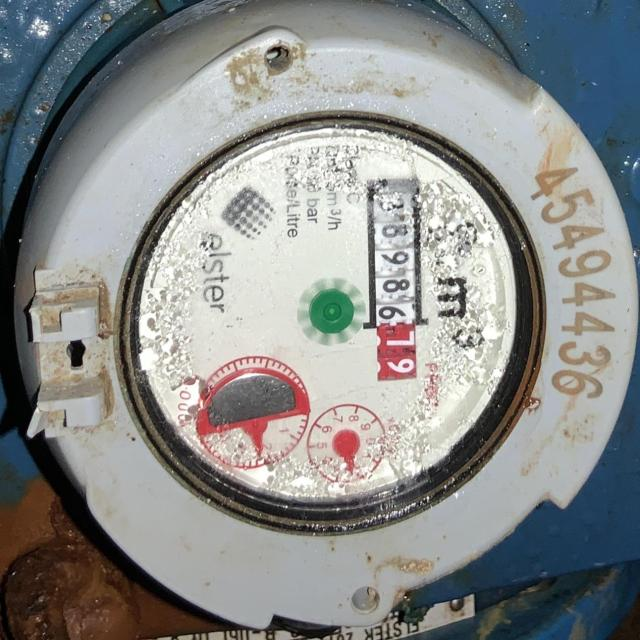gaz_meter: (130, 115, 520, 508)
indication: (369, 176, 420, 382)
